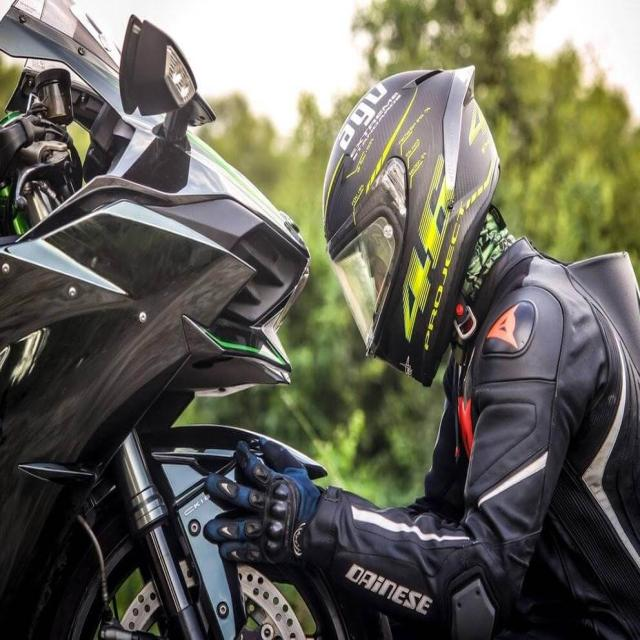Helmet: (319, 63, 504, 389)
